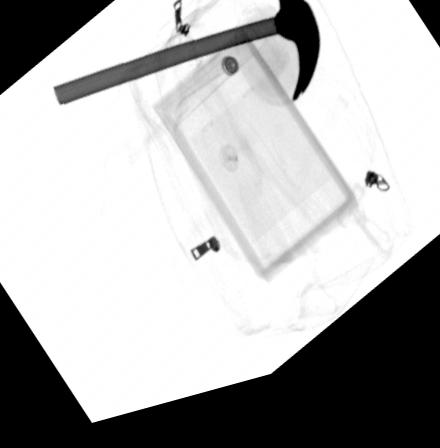Hammer: (51, 0, 321, 119)
